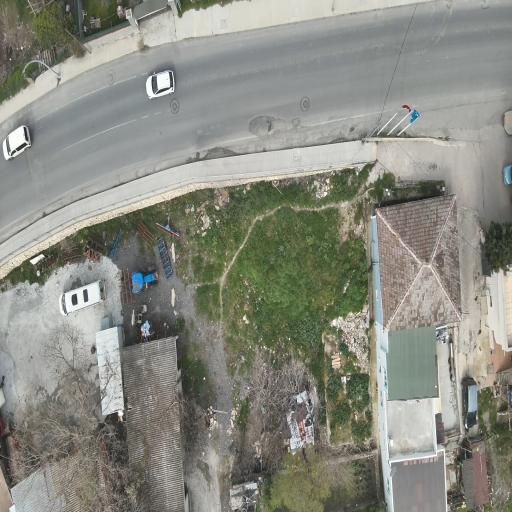car: (59, 279, 106, 315), (3, 126, 31, 160), (146, 71, 175, 99), (131, 265, 158, 294), (462, 378, 477, 429), (503, 166, 511, 185)
